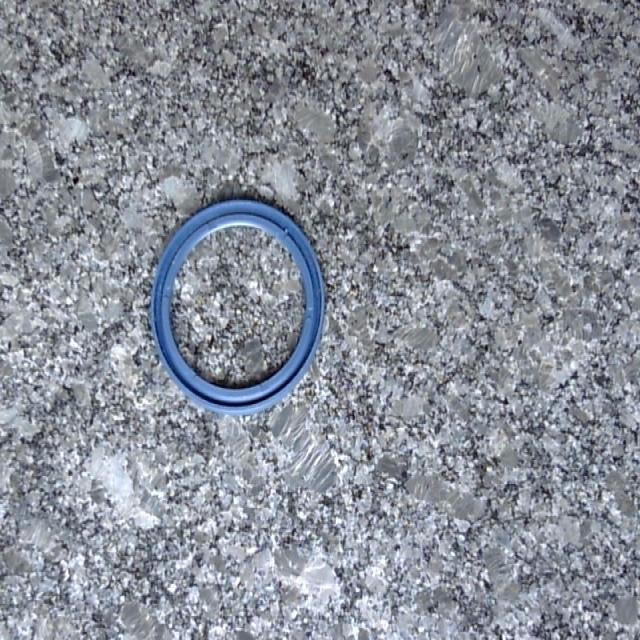cobalt-W-ring: (151, 200, 325, 415)
